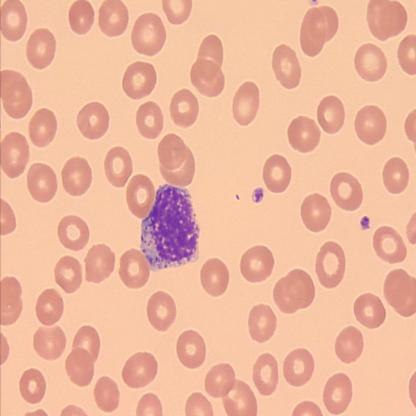Myelocyte: (140, 181, 200, 271)
